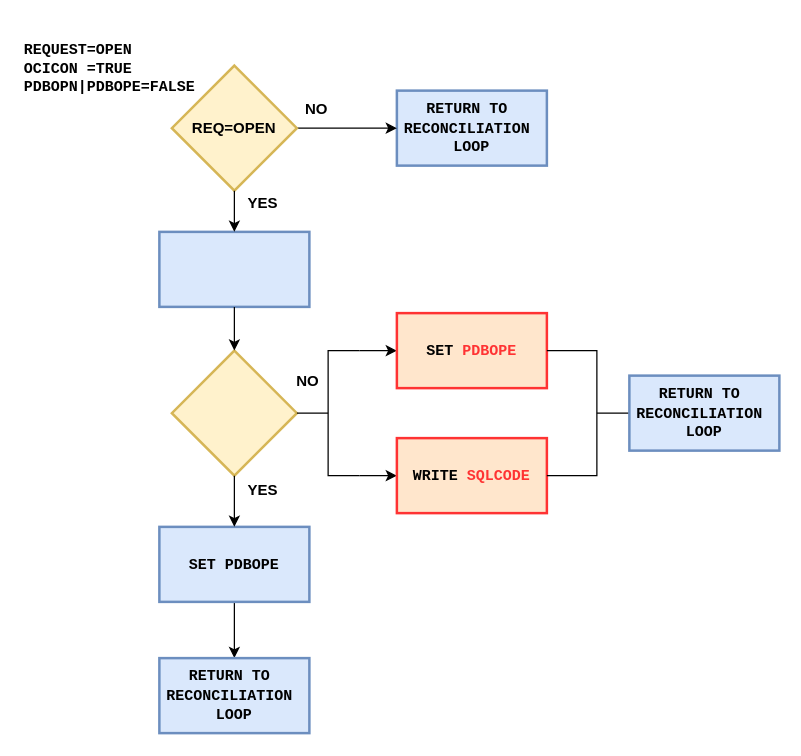
Image size: 801x756. Some labels were removed from this diagram. Here are the shapes that lost their labels. From the top down, the centre of each, then its label:
the point at 234,269: CALL TO RDBMS OPEN PDB
the point at 234,412: SUCCESS
